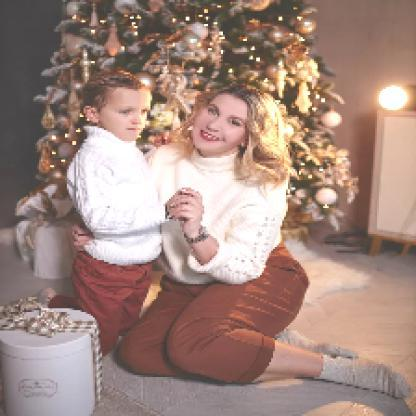child: (38, 71, 192, 359)
